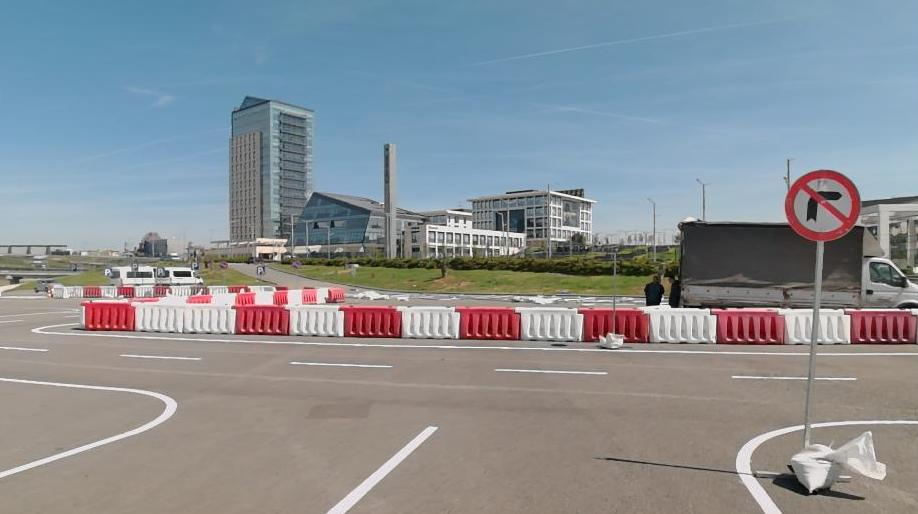nesne: (0, 329, 916, 513), (328, 362, 914, 512), (0, 340, 439, 512), (95, 301, 918, 344), (29, 323, 906, 356), (681, 219, 917, 306), (0, 374, 176, 479), (736, 416, 916, 511), (325, 422, 439, 512), (787, 430, 891, 494), (785, 169, 858, 241), (125, 285, 346, 306), (49, 283, 251, 298), (647, 306, 717, 344), (784, 308, 849, 344), (715, 309, 788, 341), (581, 307, 648, 341), (517, 306, 583, 339), (848, 308, 916, 340), (457, 305, 519, 339), (282, 304, 345, 337), (397, 307, 461, 337), (342, 305, 399, 336), (232, 305, 287, 333), (130, 304, 183, 331), (286, 357, 394, 370), (83, 302, 134, 329), (182, 304, 233, 331), (491, 365, 606, 375), (727, 372, 853, 380), (115, 350, 201, 361), (108, 266, 154, 284), (641, 274, 665, 306), (158, 268, 203, 283), (665, 272, 685, 305), (596, 329, 625, 351), (53, 285, 82, 296), (300, 289, 319, 304), (2, 344, 48, 350), (212, 295, 238, 305), (327, 286, 344, 301), (234, 292, 257, 303), (255, 291, 273, 305), (170, 287, 192, 298), (272, 290, 288, 305), (288, 290, 303, 305), (187, 296, 213, 304), (134, 285, 151, 297), (99, 285, 117, 296), (247, 284, 275, 291), (315, 288, 328, 303), (228, 285, 252, 293), (82, 286, 100, 296), (132, 297, 162, 303), (189, 286, 208, 295), (117, 287, 133, 296), (210, 285, 228, 293), (159, 298, 186, 303), (153, 288, 170, 295), (155, 265, 164, 278), (291, 261, 302, 271), (129, 261, 139, 271), (257, 265, 266, 276), (102, 268, 113, 276), (219, 261, 228, 270), (191, 262, 199, 270)
